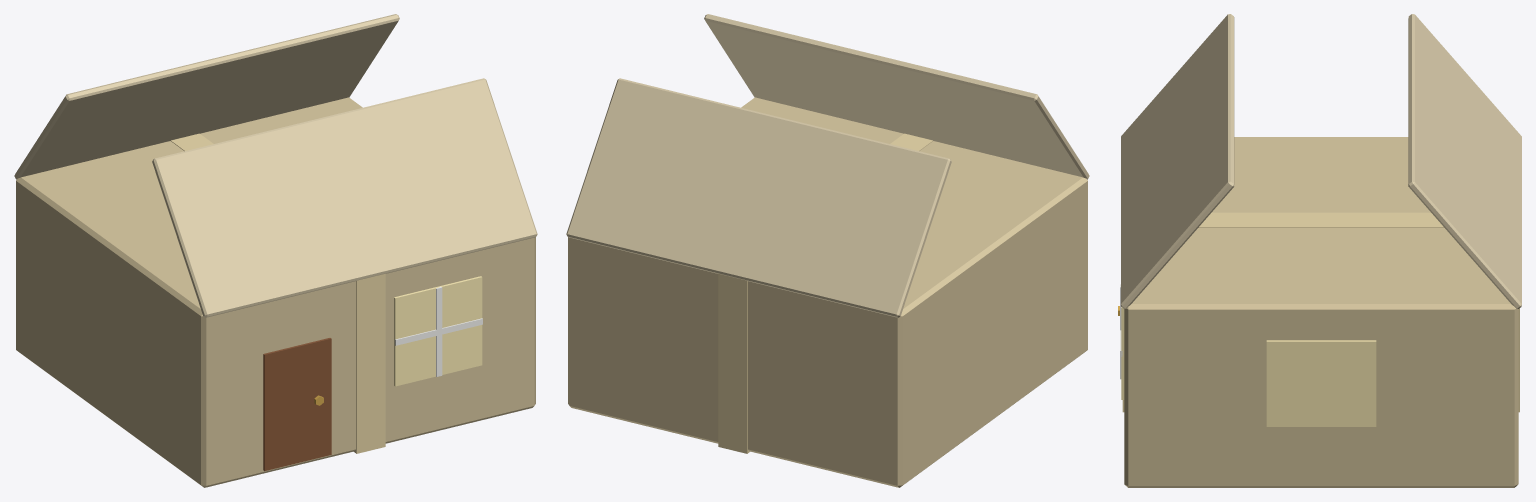
File: shoebox_apartment.glb
3 renders of one model, left to right at view 1: azimuth 30°, elevation 25°; view 2: azimuth 150°, elevation 25°; view 3: azimuth 270°, elevation 25°, orthographic. The views are drawn at different scales.
Parts seen in each view (by area): view 1: shoebox_apartment_Body; view 2: shoebox_apartment_Body; view 3: shoebox_apartment_Body.
Boxes of the visible parts, <box> form: shoebox_apartment_Body: <box>14,14,537,487</box>; shoebox_apartment_Body: <box>566,14,1089,487</box>; shoebox_apartment_Body: <box>1118,14,1521,487</box>.
Size of the model in its own units: 0.6 by 0.5 by 0.596.
